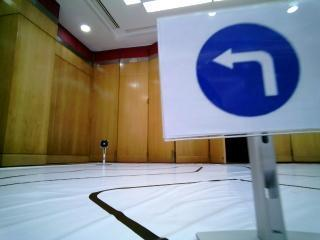left: (160, 16, 320, 124)
